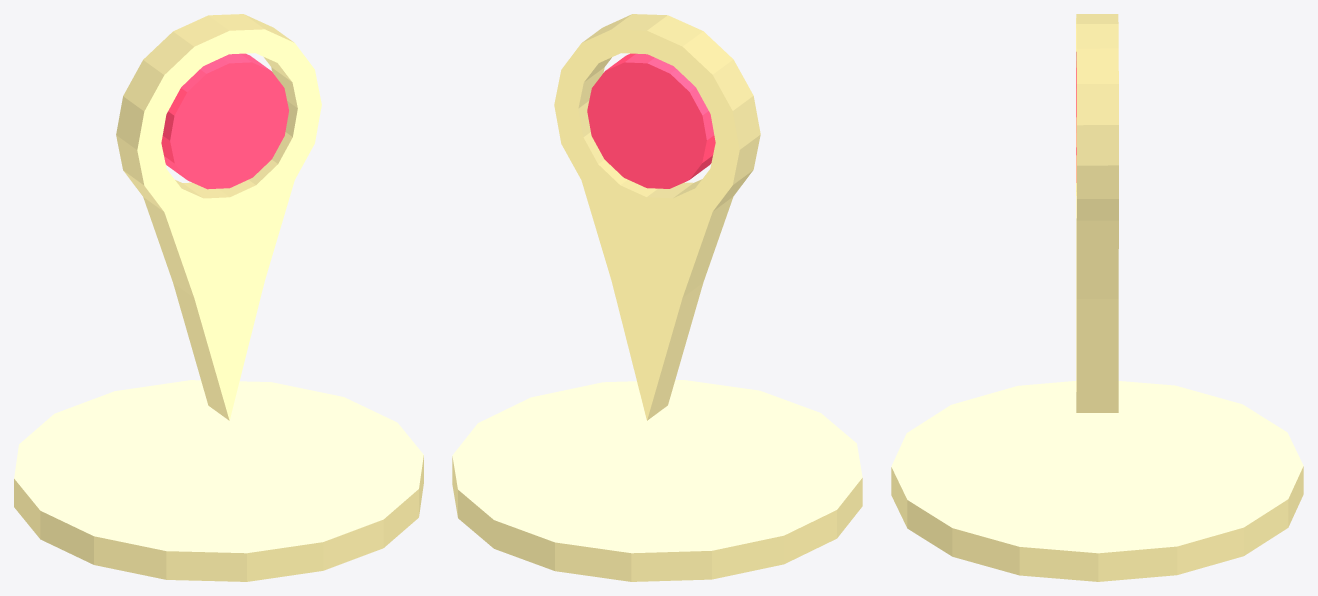
File: pointer.glb
3 renders of one model, left to right at view 1: azimuth 30°, elevation 25°; view 2: azimuth 150°, elevation 25°; view 3: azimuth 270°, elevation 25°, orthographic.
Visible parts, largest first — view 1: mapPointer.001; view 2: mapPointer.001; view 3: mapPointer.001.
Boxes of the visible parts, x1,y1,x2,y2 form: mapPointer.001: [14, 14, 423, 581]; mapPointer.001: [452, 14, 862, 581]; mapPointer.001: [891, 14, 1303, 581].
Size of what is drawn, in the model's own units: 0.2542 by 0.3203 by 0.2542.
Materials: 2 (2 with a texture image).
